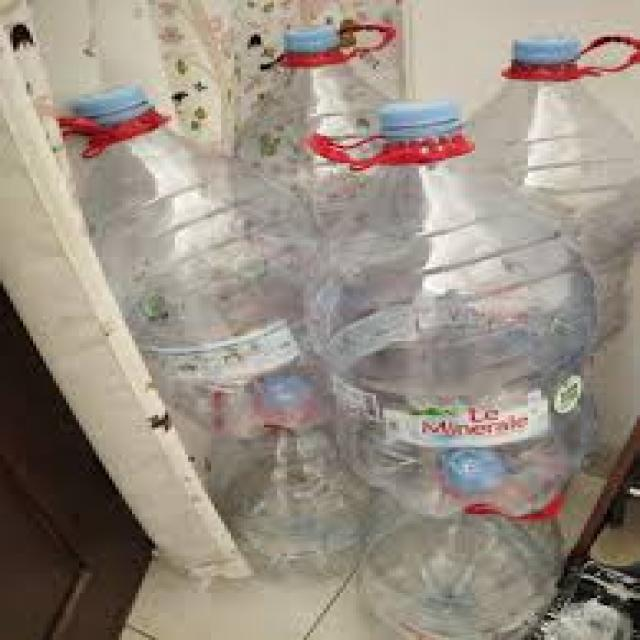Galon: (67, 17, 640, 640)
